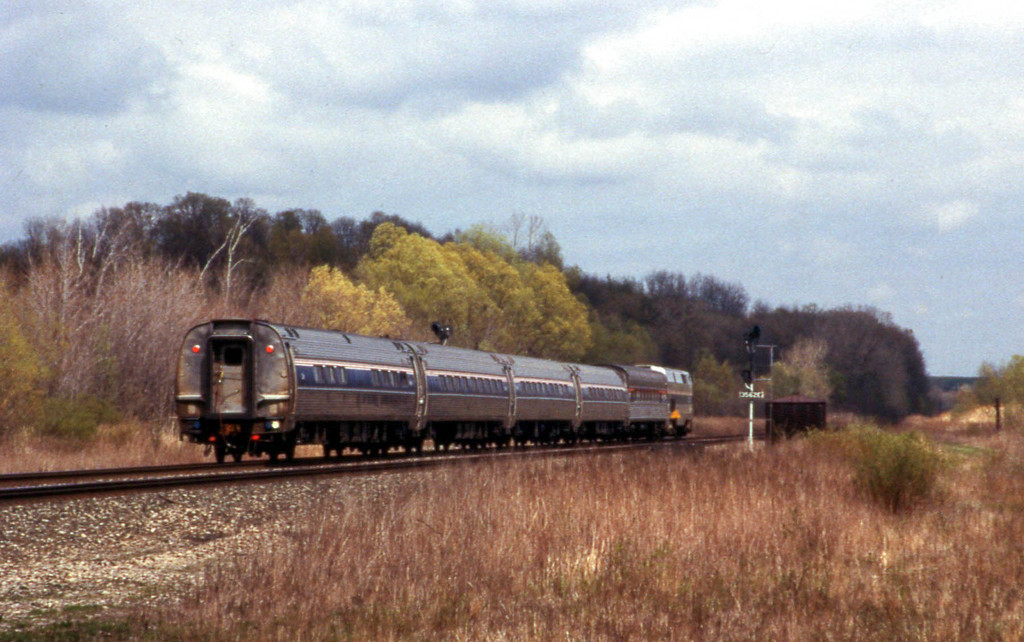train: (176, 315, 695, 462)
